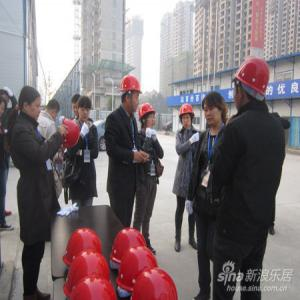none: (203, 93, 228, 131), (20, 86, 42, 124), (78, 96, 92, 123), (46, 99, 62, 121)
red: (233, 55, 271, 110), (122, 75, 140, 114), (140, 102, 156, 131), (180, 105, 196, 130)
